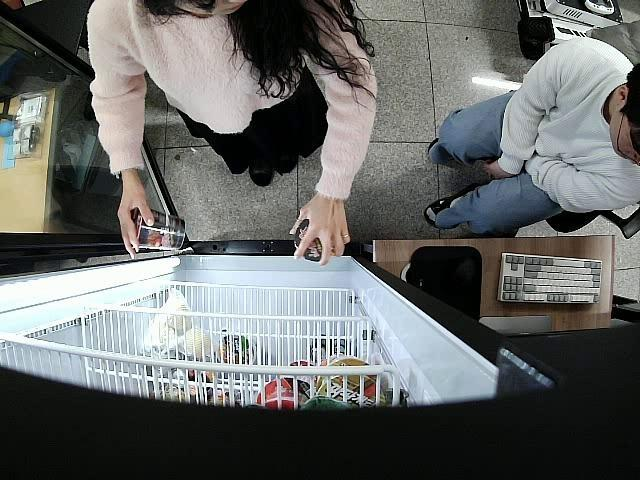08_buldak_S: (130, 208, 186, 252), (294, 218, 322, 263)
